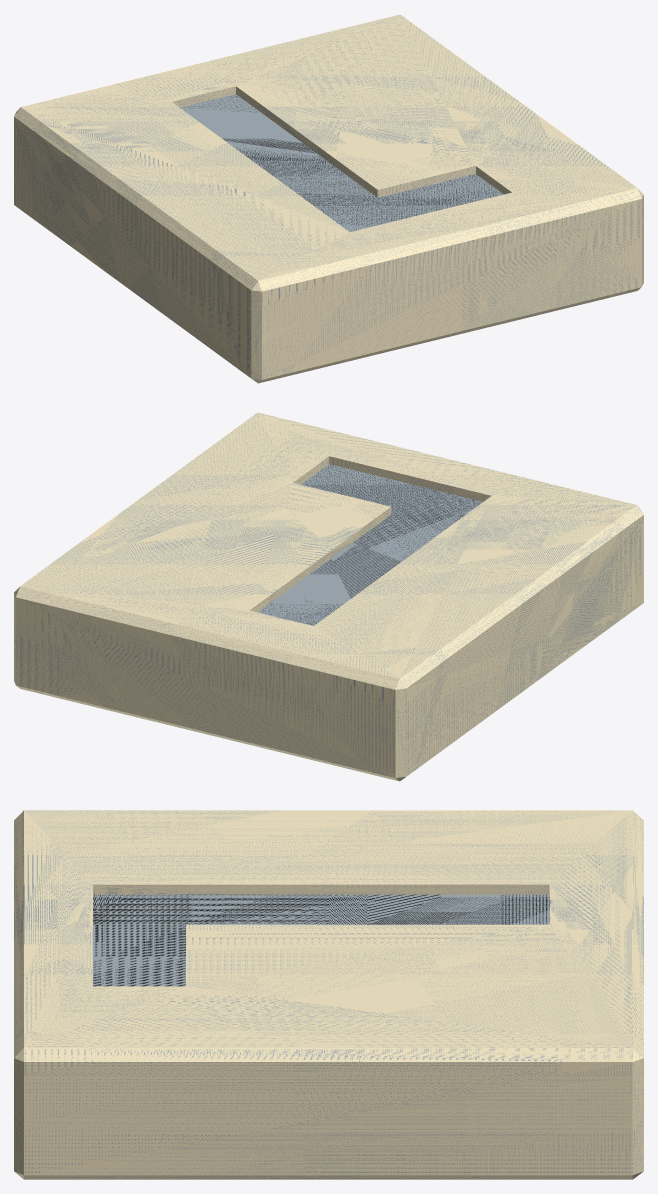
The model's file is Boardgame_Anagram_Tile_L.fbx.
The picture shows the model from 3 angles, top to bottom: view 1: azimuth 30°, elevation 25°; view 2: azimuth 150°, elevation 25°; view 3: azimuth 270°, elevation 25°; orthographic projection. The views are drawn at different scales.
Parts seen in each view (by area): view 1: Model; view 2: Model; view 3: Model.
Part boxes in pixels (x1,y1,x2,y2): Model: (14,14,643,383); Model: (14,412,643,781); Model: (14,810,643,1179).
Size of the model in its own units: 195 by 48.83 by 212.
